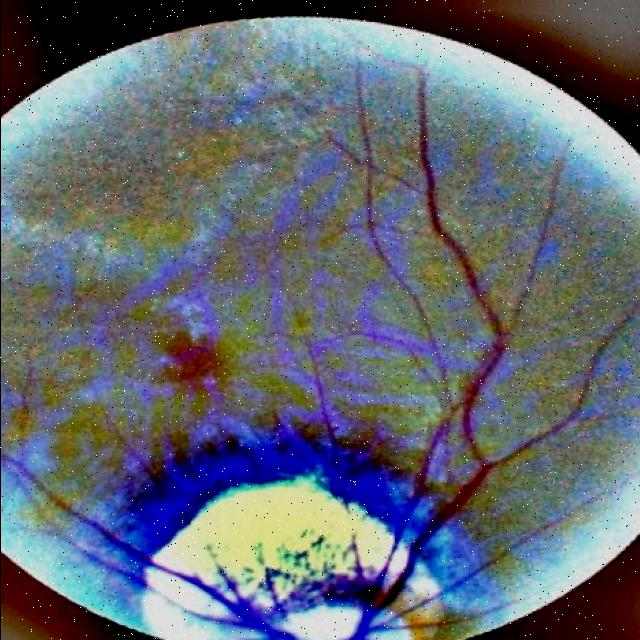Macula: (165, 332, 222, 390)
Nerves: (67, 68, 510, 640)
Optic Disk: (141, 476, 444, 640)
